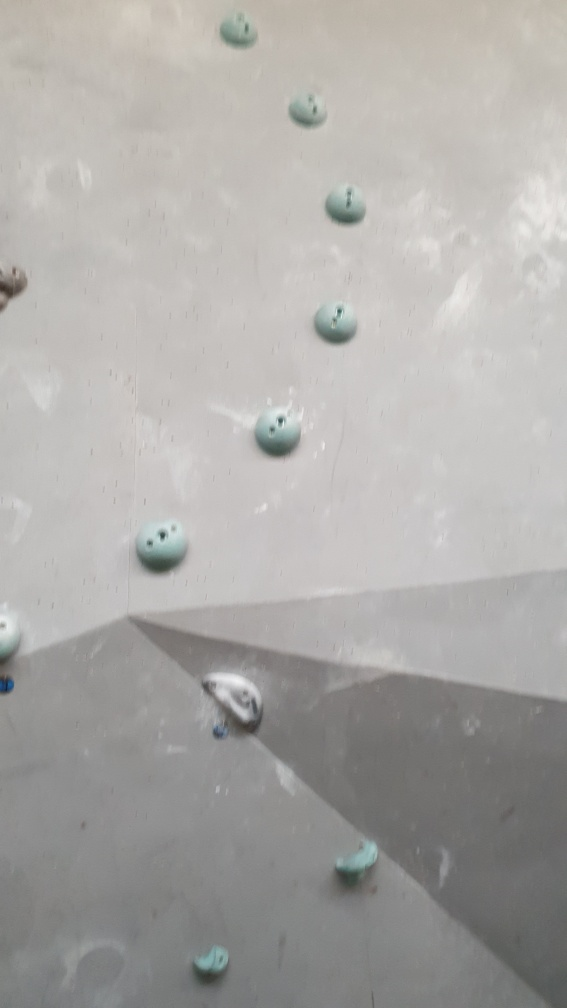Hand Start: (212, 717, 233, 741), (2, 670, 17, 698)
Sloper: (138, 514, 195, 573), (256, 402, 305, 464), (311, 290, 363, 344), (213, 7, 270, 53), (329, 178, 374, 222), (288, 92, 335, 132), (1, 608, 29, 665)
